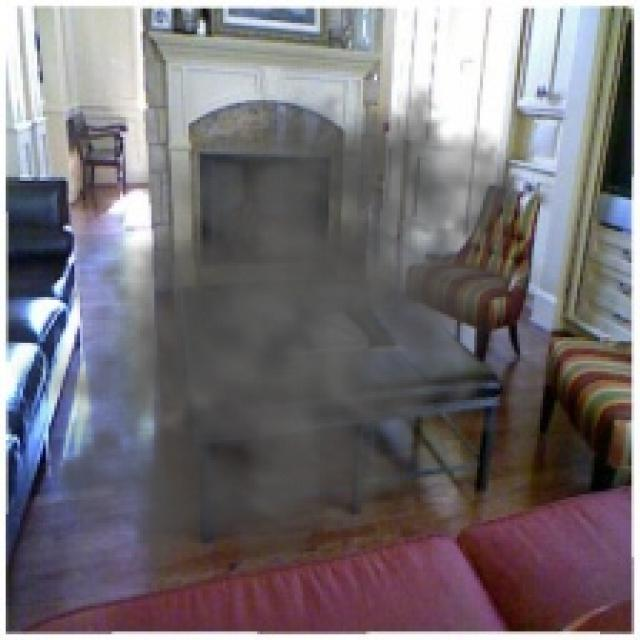smoke: (11, 51, 563, 614)
